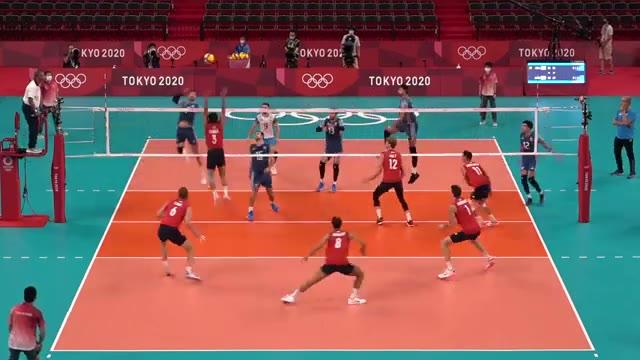ball: (202, 52, 218, 64)
